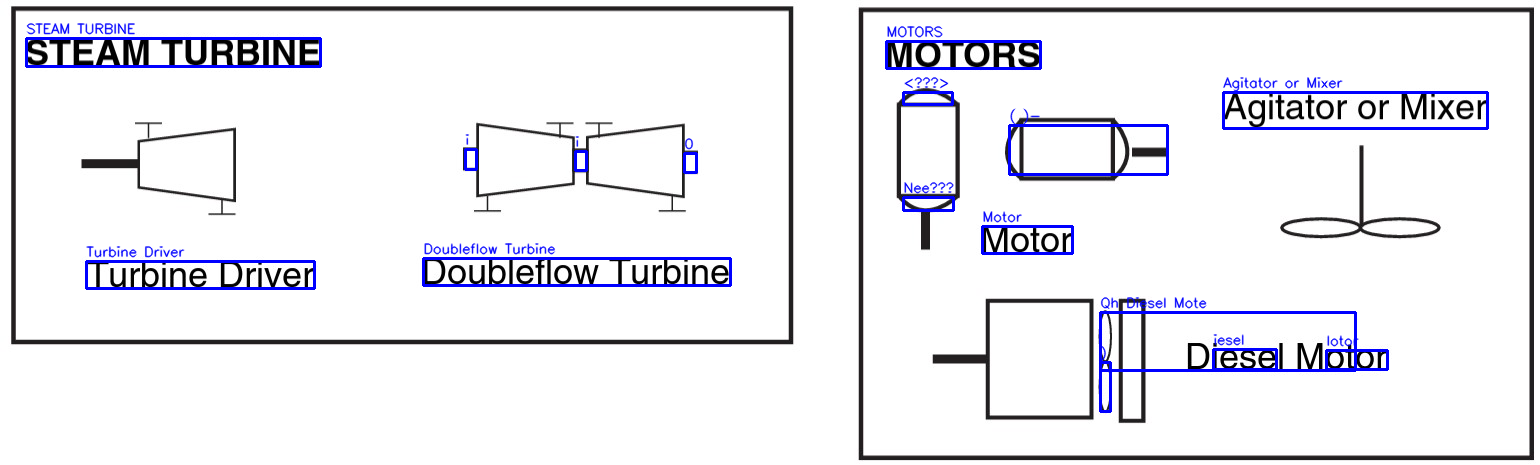Agitador: (1275, 138, 1448, 245)
Misturador: (1275, 139, 1446, 244)
Motor: (924, 296, 1151, 425), (891, 84, 964, 258), (1002, 114, 1175, 187)
Turbina: (456, 110, 704, 219), (76, 116, 244, 222)
